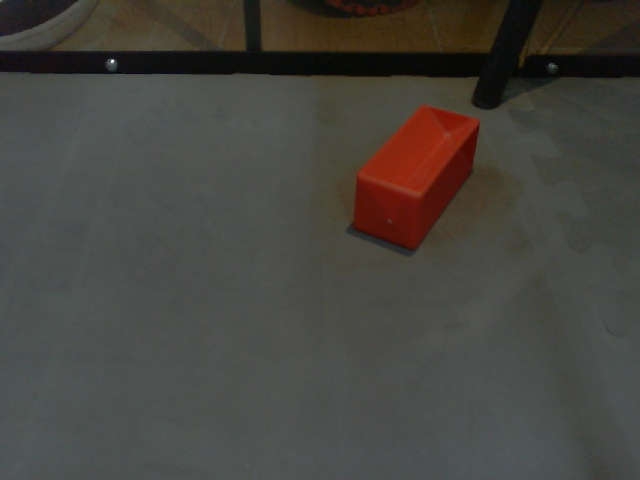RedSample: (350, 102, 481, 256)
